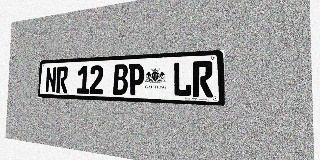1: (76, 65, 90, 94)
2: (89, 65, 103, 94)
B: (113, 64, 128, 95)
L: (173, 61, 192, 97)
N: (45, 67, 57, 93)
P: (128, 63, 144, 95)
R: (192, 61, 213, 97), (56, 66, 68, 93)
